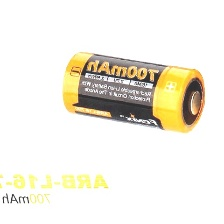battery: (56, 47, 208, 136), (51, 111, 199, 198)
